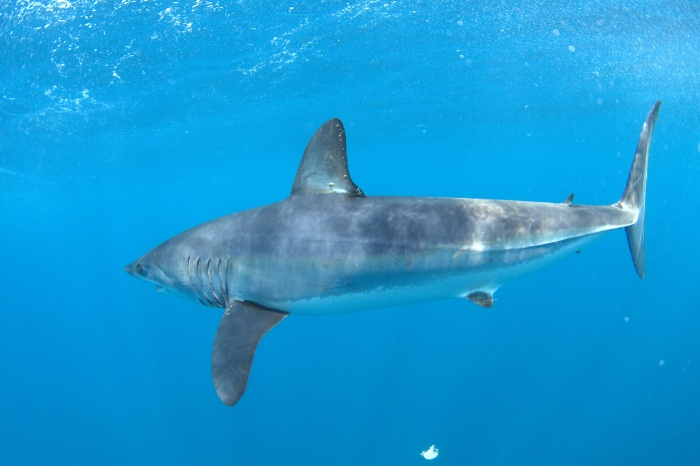Mako: (121, 90, 670, 413)
